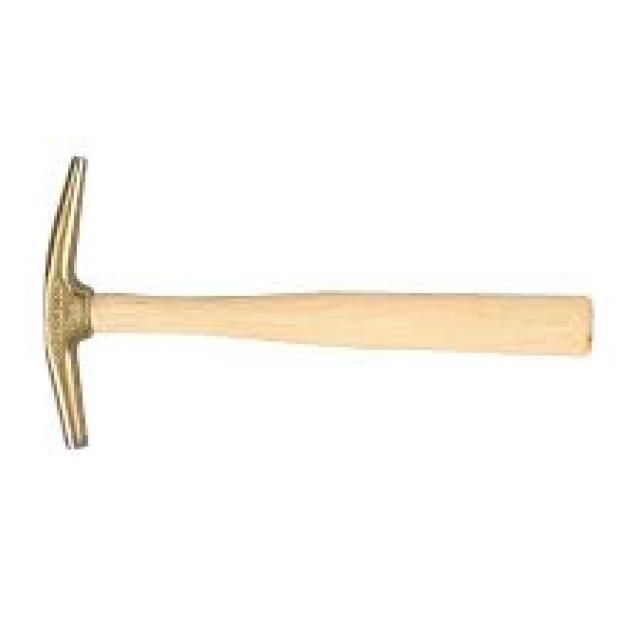hammer: (32, 150, 606, 456)
